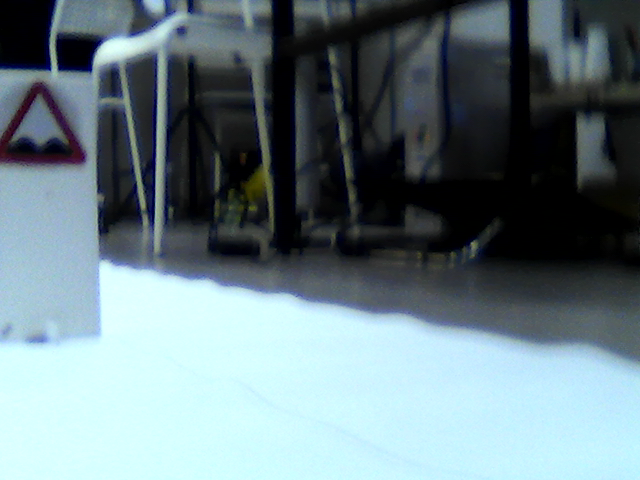Nerov: (2, 78, 88, 169)
